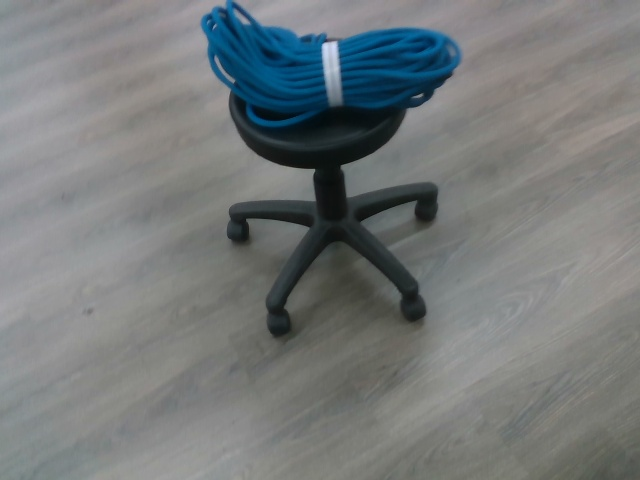rope: (194, 1, 466, 130)
